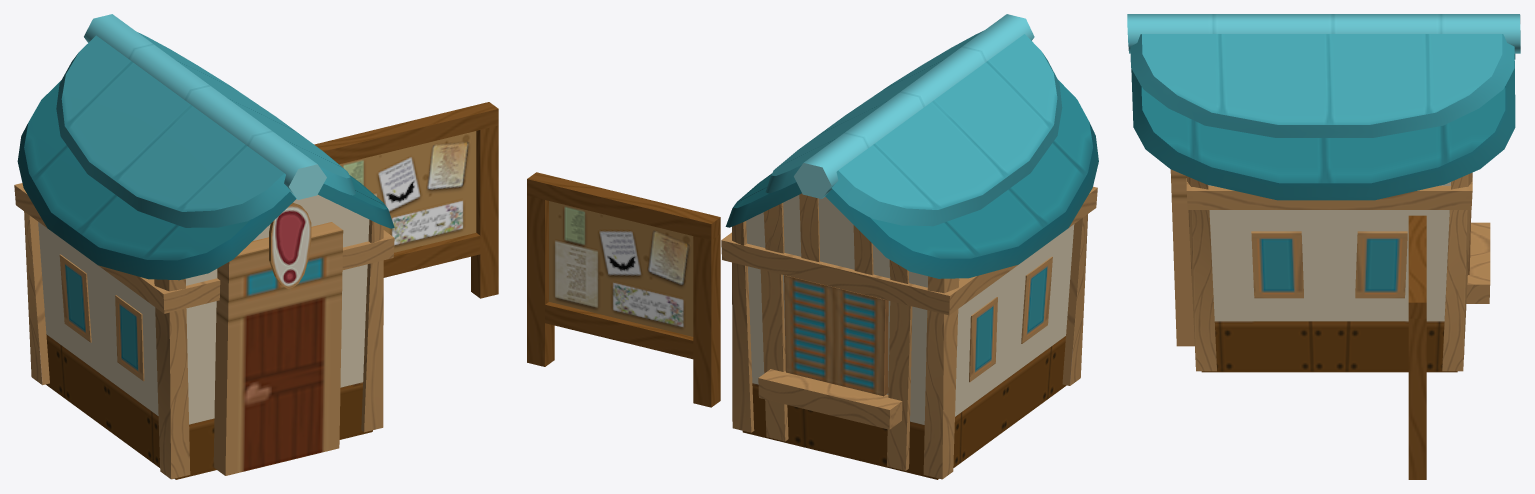
File: building_Commissioner_lv1.FBX
3 renders of one model, left to right at view 1: azimuth 30°, elevation 25°; view 2: azimuth 150°, elevation 25°; view 3: azimuth 270°, elevation 25°, orthographic. The views are drawn at different scales.
Visible parts, largest first — view 1: building_Commissioner_roof_lv1, building_Commissioner_lv1, building_Commissioner_etc_lv1; view 2: building_Commissioner_roof_lv1, building_Commissioner_lv1, building_Commissioner_etc_lv1; view 3: building_Commissioner_roof_lv1, building_Commissioner_lv1, building_Commissioner_etc_lv1.
Part boxes in pixels (bbox=[...]): building_Commissioner_roof_lv1: bbox=[17, 14, 394, 479]; building_Commissioner_lv1: bbox=[14, 183, 394, 479]; building_Commissioner_etc_lv1: bbox=[314, 102, 498, 298]; building_Commissioner_roof_lv1: bbox=[725, 14, 1098, 479]; building_Commissioner_lv1: bbox=[721, 186, 1097, 479]; building_Commissioner_etc_lv1: bbox=[527, 172, 720, 407]; building_Commissioner_roof_lv1: bbox=[1127, 14, 1520, 372]; building_Commissioner_lv1: bbox=[1170, 169, 1490, 371]; building_Commissioner_etc_lv1: bbox=[1408, 215, 1426, 479].
Size of the model in its own units: 346 by 225 by 263.
